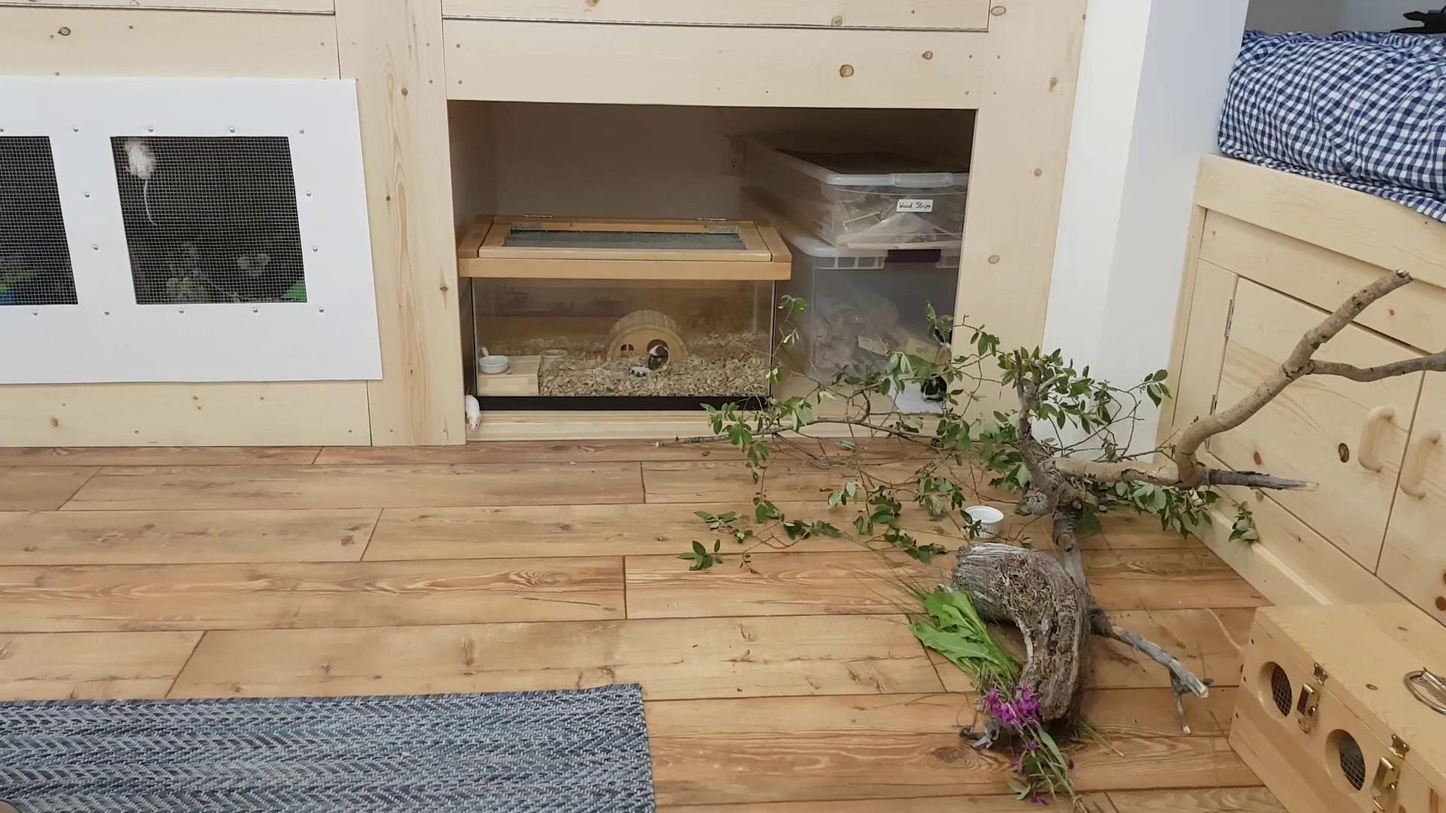rat: (122, 140, 157, 175), (464, 395, 484, 431), (923, 373, 947, 400)
